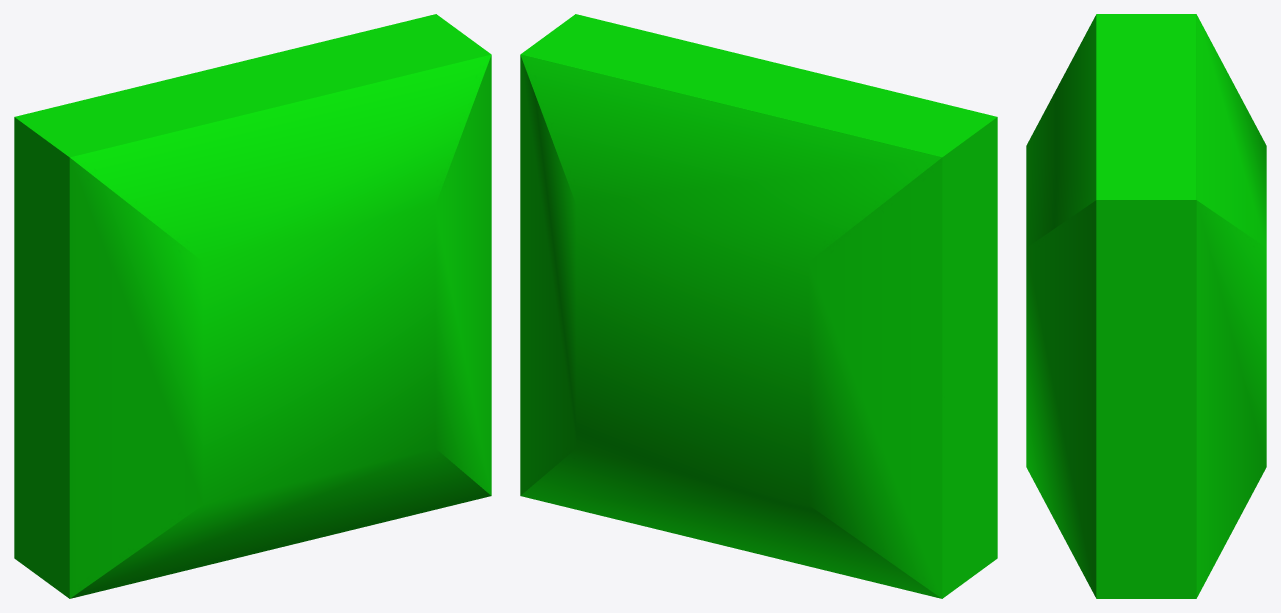
The model's file is SquareGEM.gltf.
3 views of the same model, side by side, from view 1: azimuth 30°, elevation 25°; view 2: azimuth 150°, elevation 25°; view 3: azimuth 270°, elevation 25° (orthographic). The views are drawn at different scales.
Parts seen in each view (by area): view 1: Square Gem; view 2: Square Gem; view 3: Square Gem.
Part boxes in pixels (<box>): Square Gem: <box>14,14,491,598</box>; Square Gem: <box>520,14,997,598</box>; Square Gem: <box>1026,14,1266,598</box>.
Size of the model in its own units: 83.74 by 83.74 by 45.68.
Materials: 1 (1 with a texture image).
